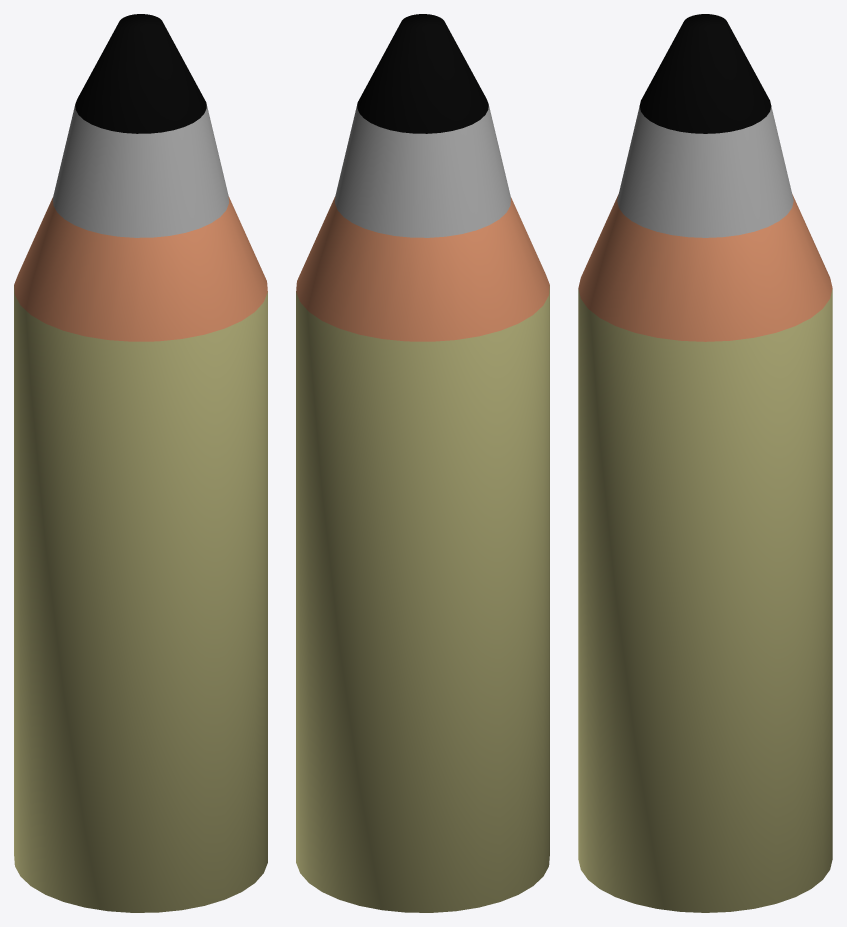
The model's file is bullet.fbx.
The picture shows the model from 3 angles, left to right: view 1: azimuth 30°, elevation 25°; view 2: azimuth 150°, elevation 25°; view 3: azimuth 270°, elevation 25°; orthographic projection.
Visible parts, largest first — view 1: Cylinder; view 2: Cylinder; view 3: Cylinder.
Part boxes in pixels (box(x1,y1,x2,y2)): Cylinder: box(14, 14, 267, 912); Cylinder: box(296, 14, 549, 912); Cylinder: box(578, 14, 832, 912).
Size of the model in its own units: 80.7 by 293 by 80.7.
